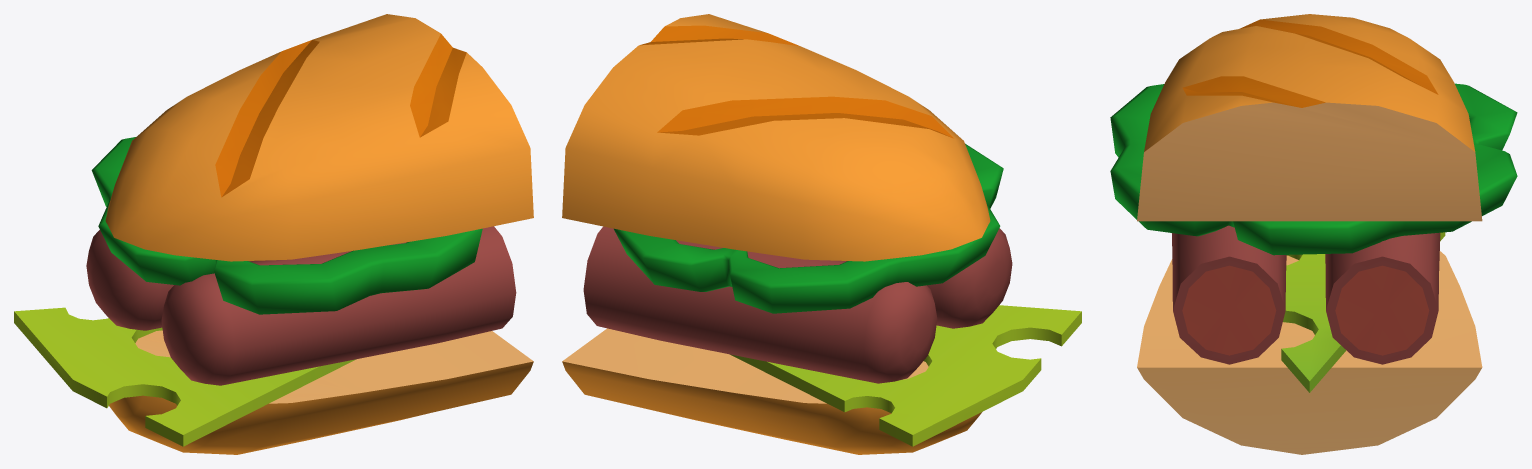
Rendered from Sandwich_half_03.fbx.
The picture shows the model from 3 angles, left to right: view 1: azimuth 30°, elevation 25°; view 2: azimuth 150°, elevation 25°; view 3: azimuth 270°, elevation 25°; orthographic projection.
Visible parts, largest first — view 1: Sandwich_half_03; view 2: Sandwich_half_03; view 3: Sandwich_half_03.
Part boxes in pixels (left/top/right/bottom): Sandwich_half_03: left=14, top=14, right=533, bottom=454; Sandwich_half_03: left=562, top=14, right=1081, bottom=454; Sandwich_half_03: left=1110, top=14, right=1517, bottom=454.
Size of the model in its own units: 110 by 88.55 by 84.73.
